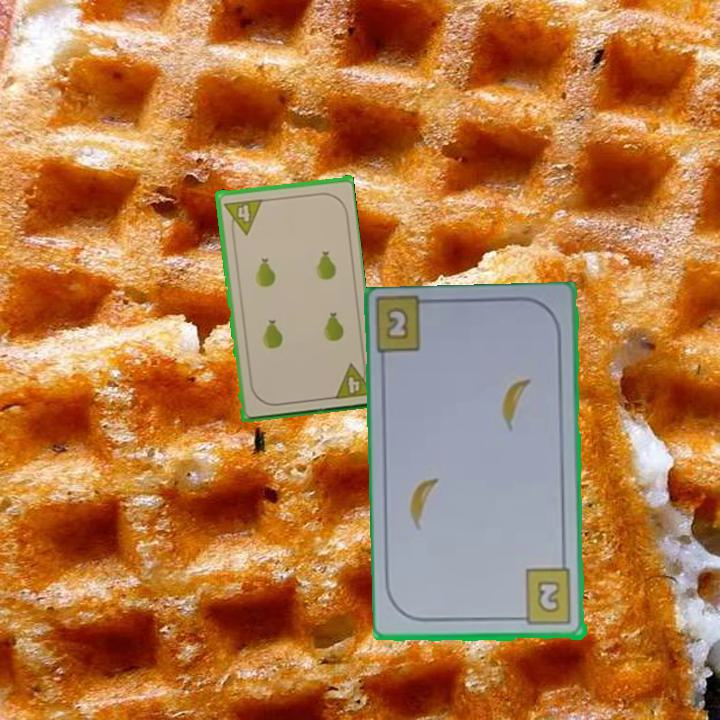2b: (514, 566, 575, 628), (382, 304, 412, 343)
4p: (329, 358, 373, 402), (220, 195, 264, 238)
